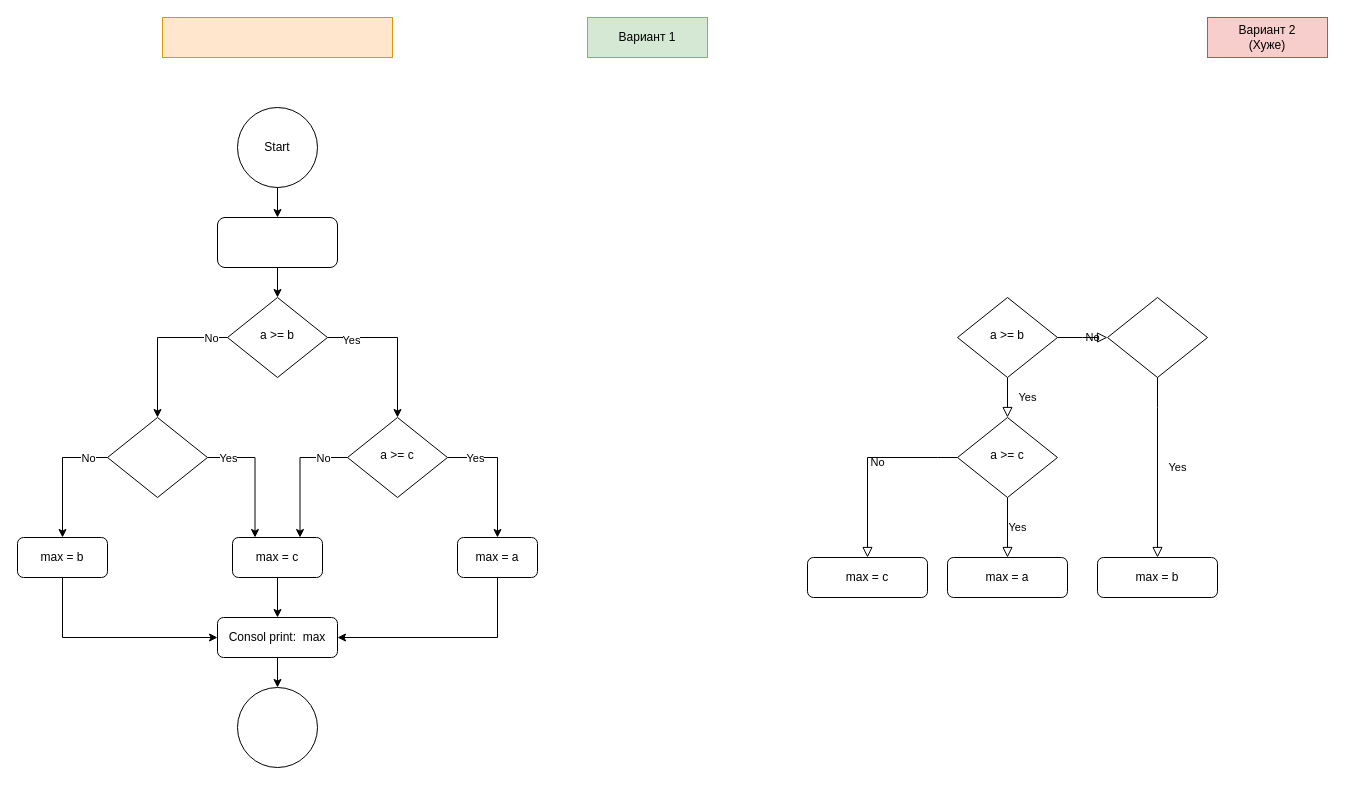
Image size: 1345x785. Some labels were removed from this diagram. The shapes that lost their labels are listed below. From the top down, each one's centre as x and y in pixels, then its label:
At (x=277, y=37): "Max of 3 numbers".
At (x=277, y=242): "console: enter numbers a, b, c".
At (x=1157, y=337): "b >= c".
At (x=157, y=457): "b <= c".
At (x=277, y=727): "End".
